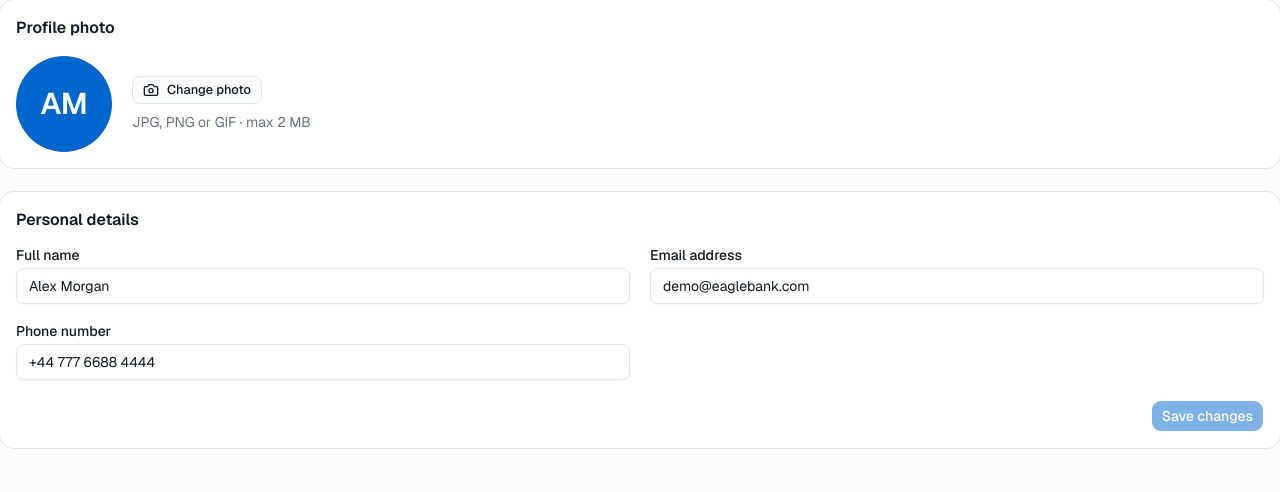
Test: ProfileForm › shows validation error for empty name
Clear the field labelled "Full name" at [323, 286], box [16,268,630,304]
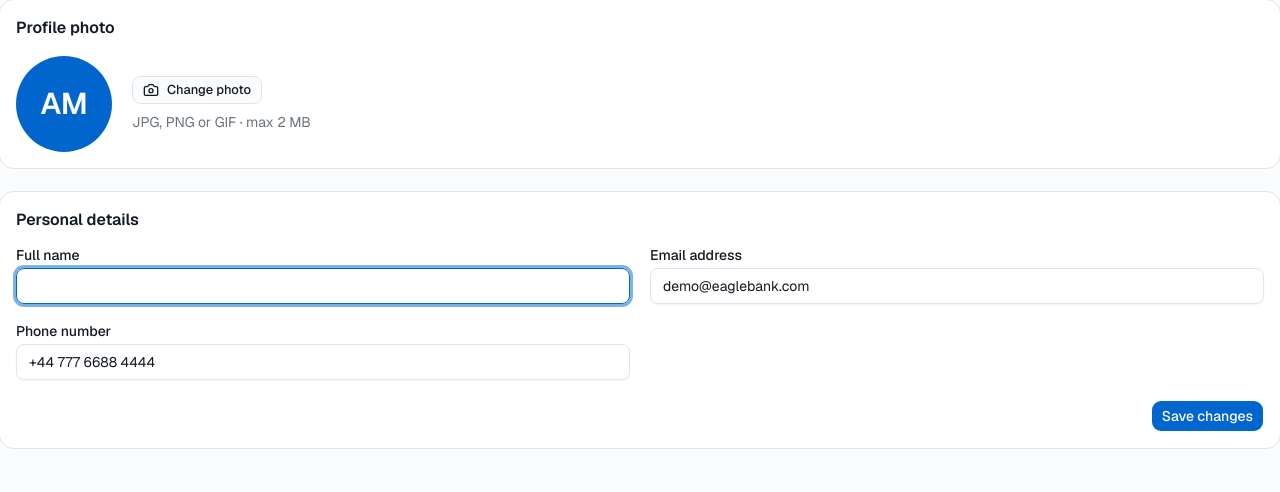
Click the button "Save changes".
click(1207, 416)  # box [1151,400,1264,432]
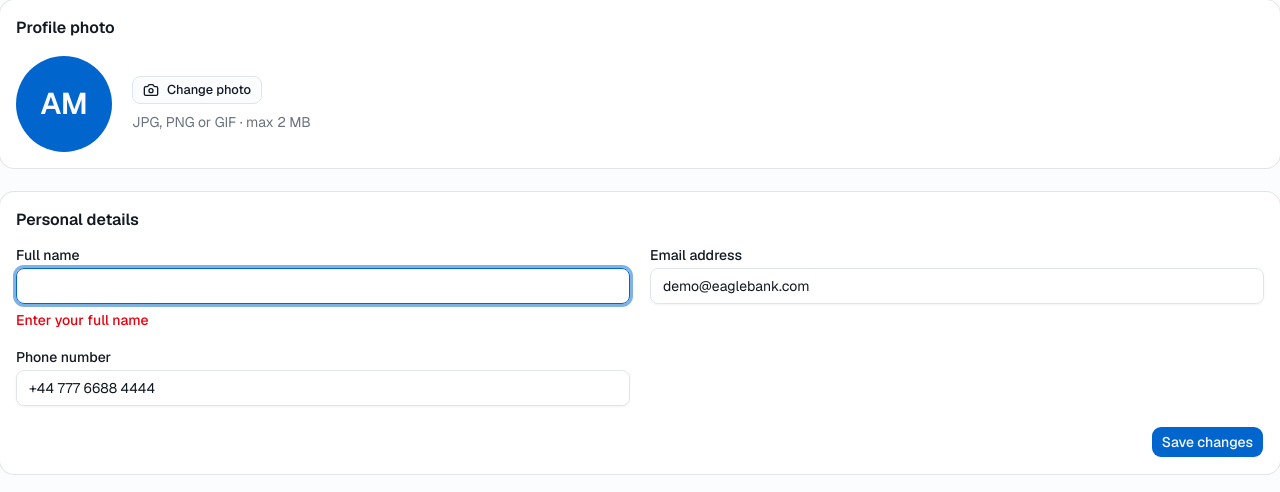
Result: the text "Enter your full name" is shown at [16,311,149,329]
